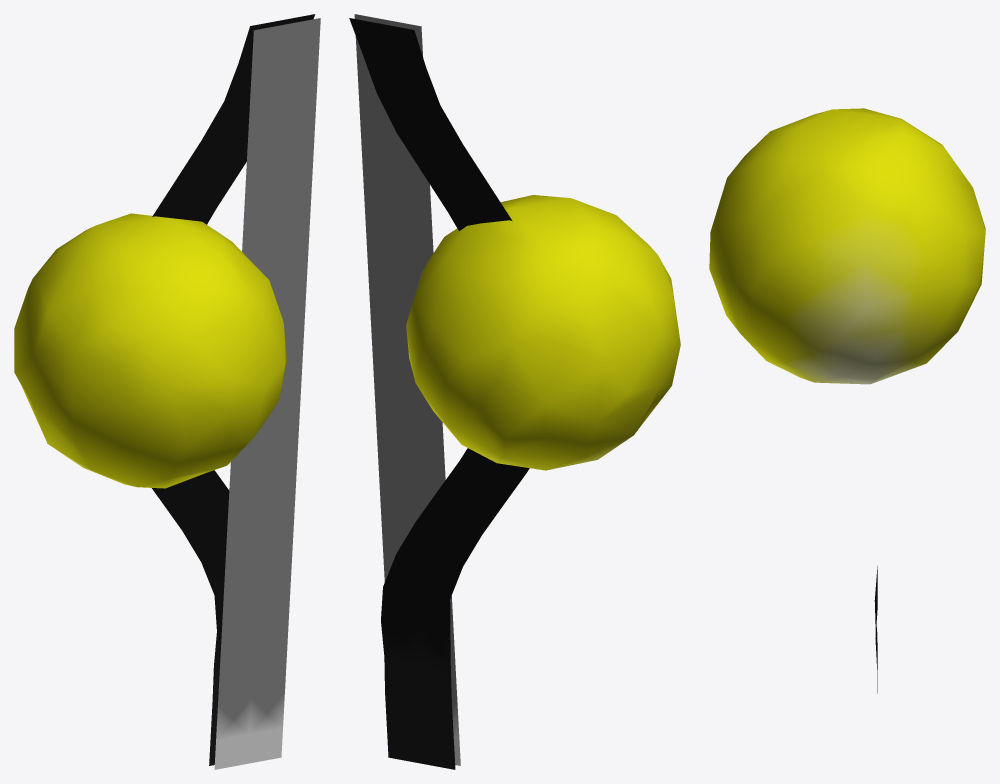
Rendered from sculpt_curve.dae.
3 views of the same model, side by side, from view 1: azimuth 30°, elevation 25°; view 2: azimuth 150°, elevation 25°; view 3: azimuth 270°, elevation 25° (orthographic).
Parts seen in each view (by area): view 1: Model; view 2: Model; view 3: Model.
Boxes of the visible parts, <box> form: Model: <box>14,14,320,769</box>; Model: <box>349,14,680,769</box>; Model: <box>709,108,985,693</box>.
Bounding box in the file's own units: 0.4881 × 1.15 × 0.3889.
